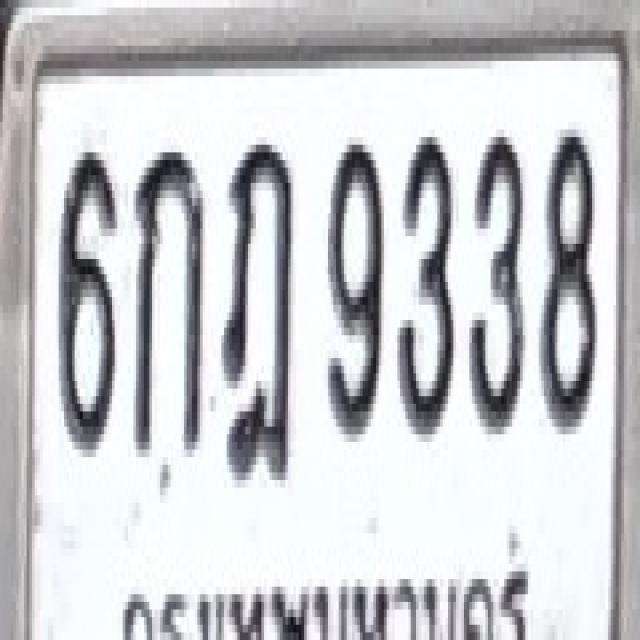-: (220, 133, 295, 484), (132, 145, 204, 457)
3: (396, 130, 455, 434), (468, 130, 524, 434)
6: (57, 141, 116, 453)
8: (540, 118, 596, 431)
9: (327, 133, 382, 438)
